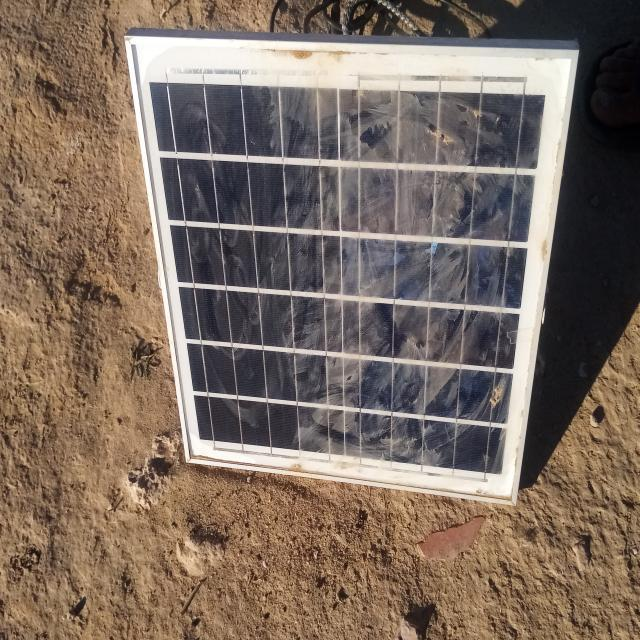faulty: (128, 37, 578, 505)
